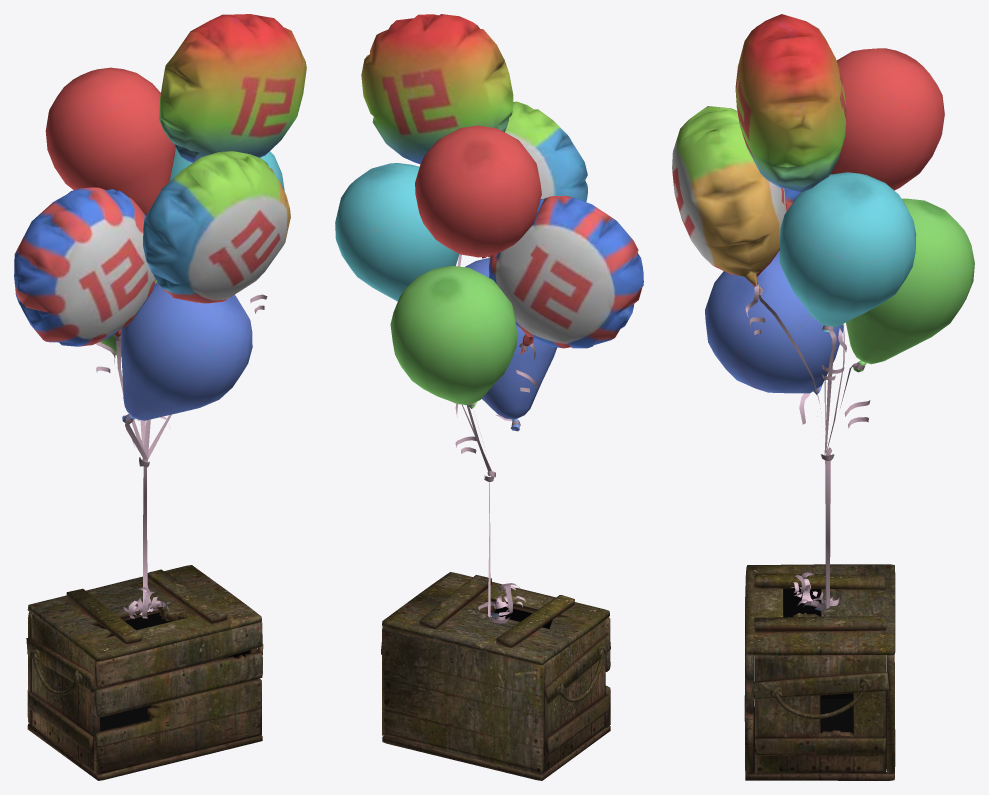
Rendered from crate_basic_jungle.glb.
The picture shows the model from 3 angles, left to right: view 1: azimuth 30°, elevation 25°; view 2: azimuth 150°, elevation 25°; view 3: azimuth 270°, elevation 25°; orthographic projection. The views are drawn at different scales.
Visible parts, largest first — view 1: mixed_balloon_clump_LOD0, PrimitiveLootbox_LOD0; view 2: mixed_balloon_clump_LOD0, PrimitiveLootbox_LOD0; view 3: mixed_balloon_clump_LOD0, PrimitiveLootbox_LOD0.
Boxes of the visible parts, x1=… form: mixed_balloon_clump_LOD0: x1=14, y1=14, x2=306, y2=618; PrimitiveLootbox_LOD0: x1=26, y1=565, x2=263, y2=780; mixed_balloon_clump_LOD0: x1=335, y1=14, x2=643, y2=623; PrimitiveLootbox_LOD0: x1=381, y1=572, x2=610, y2=780; mixed_balloon_clump_LOD0: x1=672, y1=14, x2=974, y2=610; PrimitiveLootbox_LOD0: x1=744, y1=564, x2=895, y2=780.
Bounding box in the file's own units: 1.08 × 2.6 × 0.9457.
3 materials, 3 textured.
